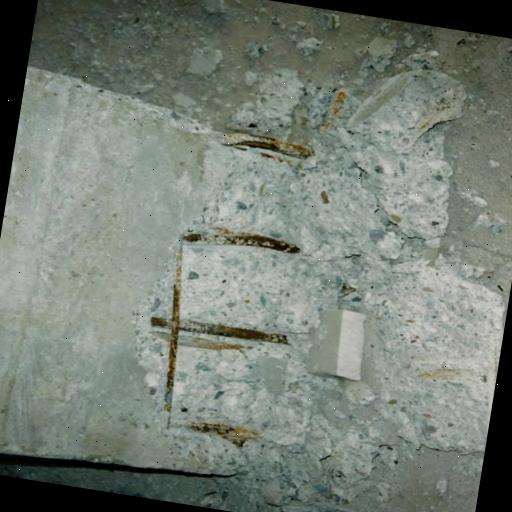spalling: (133, 131, 316, 465)
